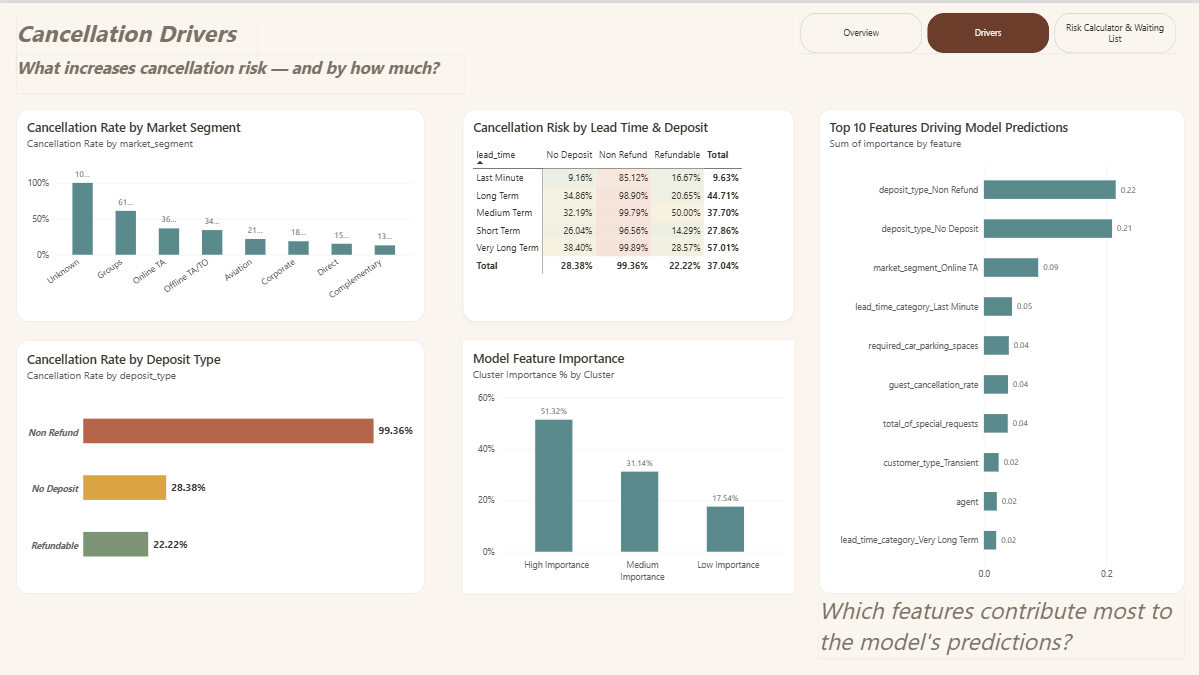

Layout of this report page (visuals, bound fields, positions):
{"tool":"powerbi","page":{"name":"Drivers","canvas":[1920,1080],"ordinal":1},"visuals":[{"type":"clusteredColumnChart","title":"Cancellation Rate by Market Segment","fields":{"Category":["hotel_ml_scored.market_segment"],"Y":["_Measures.Cancellation Rate"]},"box":[27.5,170,652.5,340],"z":1000},{"type":"clusteredBarChart","title":"Cancellation Rate by Deposit Type","fields":{"Category":["hotel_ml_scored.deposit_type"],"Y":["_Measures.Cancellation Rate"]},"box":[27.5,540,652.5,405],"z":2000},{"type":"clusteredColumnChart","title":"Model Feature Importance","fields":{"Category":["Importance Clusters.Cluster"],"Y":["_Measures.Cluster Importance %"]},"box":[742.5,540,530,405],"z":3000},{"type":"textbox","box":[27.5,22.5,385,85],"z":3001},{"type":"textbox","box":[27.1,84.3,715.7,60],"z":3002},{"type":"pivotTable","title":"Cancellation Risk by Lead Time & Deposit","fields":{"Columns":["hotel_ml_scored.deposit_type"],"Rows":["hotel_ml_scored.lead_time_category"],"Values":["_Measures.Cancellation Rate"]},"box":[742.5,170,530,340],"z":3003},{"type":"textbox","box":[1312.5,945,585,102.5],"z":3004},{"type":"clusteredBarChart","title":"Top 10 Features Driving Model Predictions","fields":{"Category":["feature_importance.feature"],"Y":["Sum(feature_importance.importance)"]},"box":[1312.5,170,585,775],"z":3005},{"type":"pageNavigator","box":[1282,16,602,64],"z":3006}]}

Visuals, with their boxes in screenshot pixels (x1, y1, x2, y2), scaled from the page's 1920x1080 canvas onto the 1199x675 screenshot:
"Cancellation Rate by Market Segment" clusteredColumnChart: {"x1": 17, "y1": 106, "x2": 425, "y2": 319}
"Cancellation Rate by Deposit Type" clusteredBarChart: {"x1": 17, "y1": 338, "x2": 425, "y2": 591}
"Model Feature Importance" clusteredColumnChart: {"x1": 464, "y1": 338, "x2": 795, "y2": 591}
textbox: {"x1": 17, "y1": 14, "x2": 258, "y2": 67}
textbox: {"x1": 17, "y1": 53, "x2": 464, "y2": 90}
"Cancellation Risk by Lead Time & Deposit" pivotTable: {"x1": 464, "y1": 106, "x2": 795, "y2": 319}
textbox: {"x1": 820, "y1": 591, "x2": 1185, "y2": 655}
"Top 10 Features Driving Model Predictions" clusteredBarChart: {"x1": 820, "y1": 106, "x2": 1185, "y2": 591}
pageNavigator: {"x1": 801, "y1": 10, "x2": 1177, "y2": 50}
